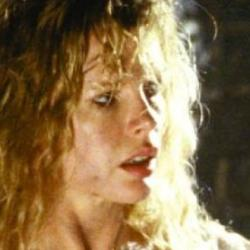face: (3, 4, 210, 234)
